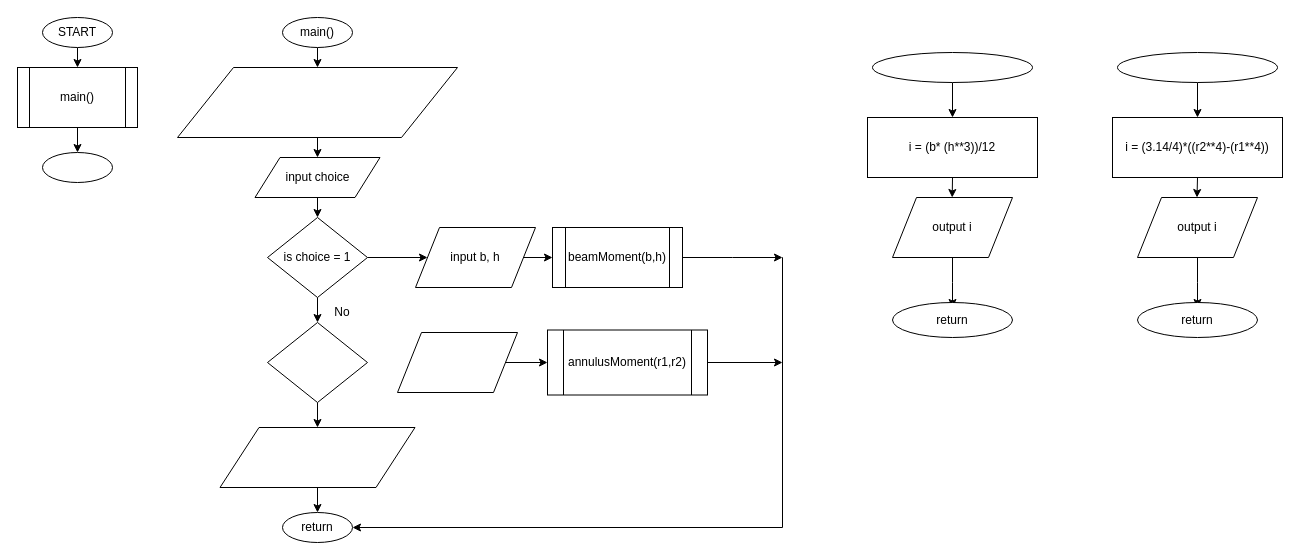
Image size: 1300x560. Some labels were removed from this diagram. The shapes that lost their labels are listed below. From the top down, each one's box as (x1, y1, x2, y2) in pixels, then its label:
(872, 52, 1032, 82): beamMoment(b.h)
(1116, 52, 1278, 82): annulusMoment(b.h)
(176, 66, 458, 138): output message: options, 1. Beam Moment, 2. Annulus moment
(42, 152, 112, 182): END
(266, 322, 368, 402): is choice = 2
(396, 332, 518, 392): input r1, r2
(219, 426, 415, 488): output "Error: valid number is not chosen"
